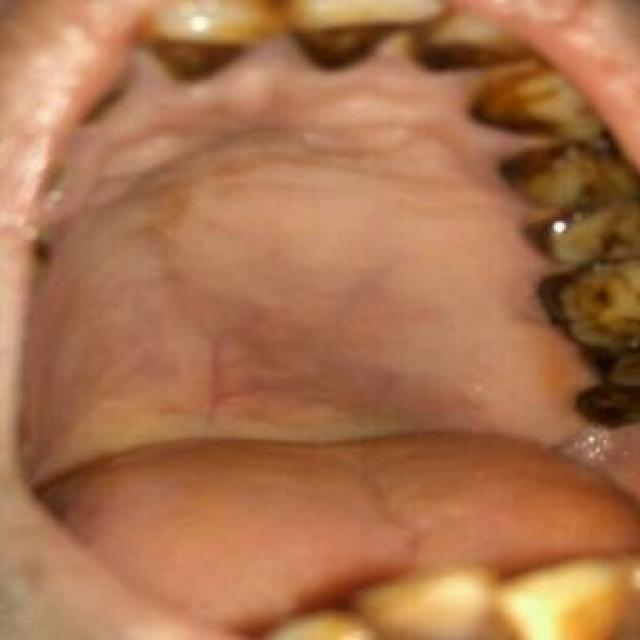processing_area: (10, 32, 638, 636)
